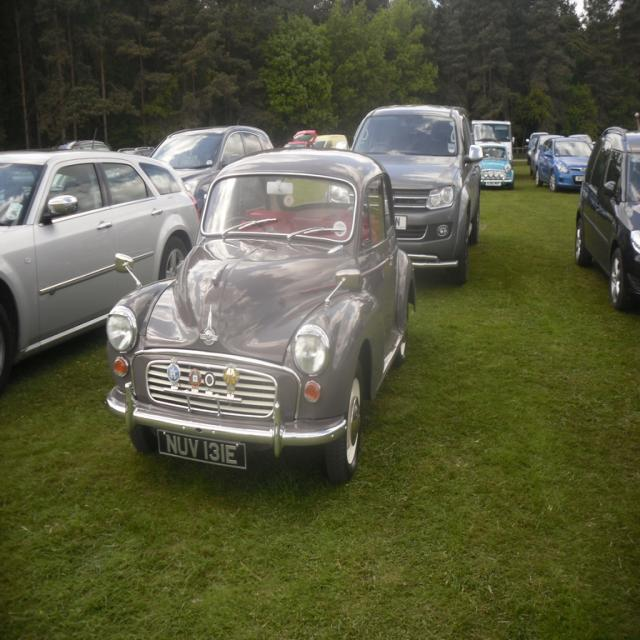car: (109, 155, 410, 484)
